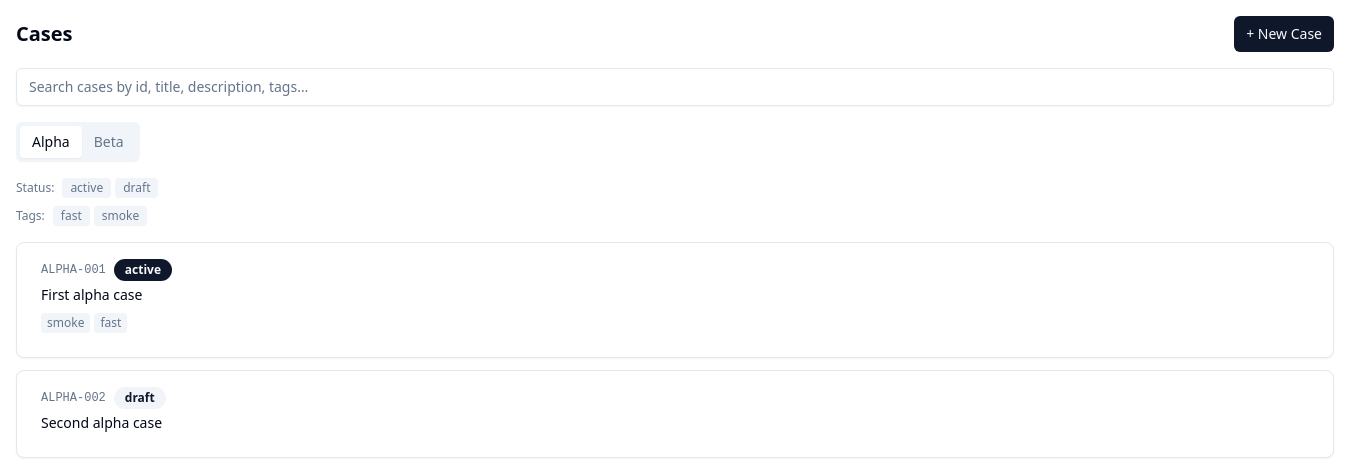
Test: CasesPage › tag chip multi-select: toggling off re-shows the hidden case
Expected: the element with test id "case-card-ALPHA-001" is shown, [16,242,1334,358]
Expected: the element with test id "case-card-ALPHA-002" is shown, [16,370,1334,458]
// Select 'smoke' — ALPHA-002 hidden
Click the button with test id "cases-tag-filter-smoke" at (120, 216), box [94,206,147,226]
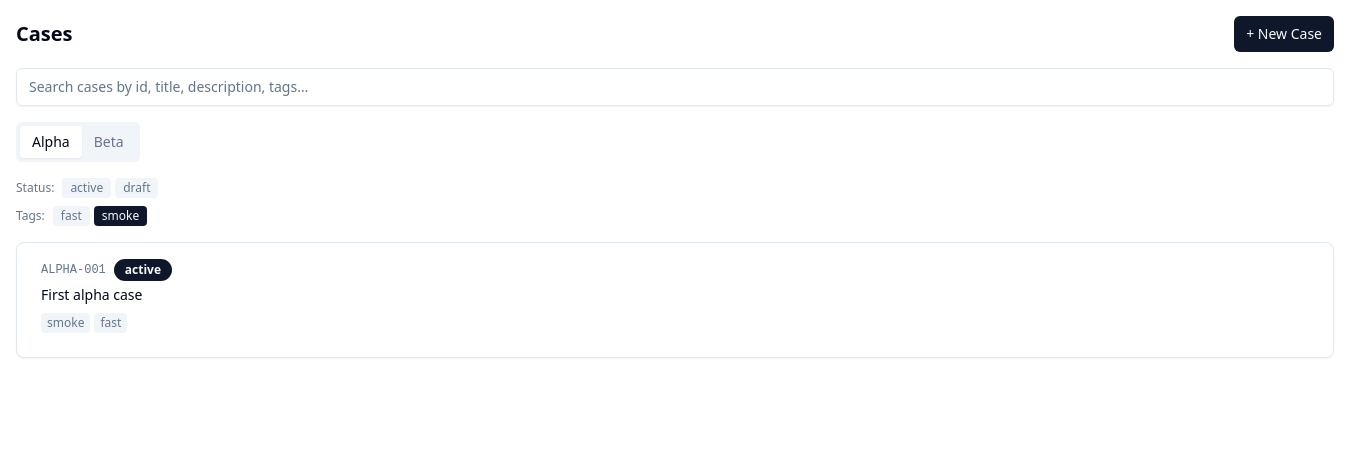
Result: the element with test id "case-card-ALPHA-002" is gone
// De-select 'smoke' — ALPHA-002 should reappear
Click the button with test id "cases-tag-filter-smoke" at (120, 216), box [94,206,147,226]
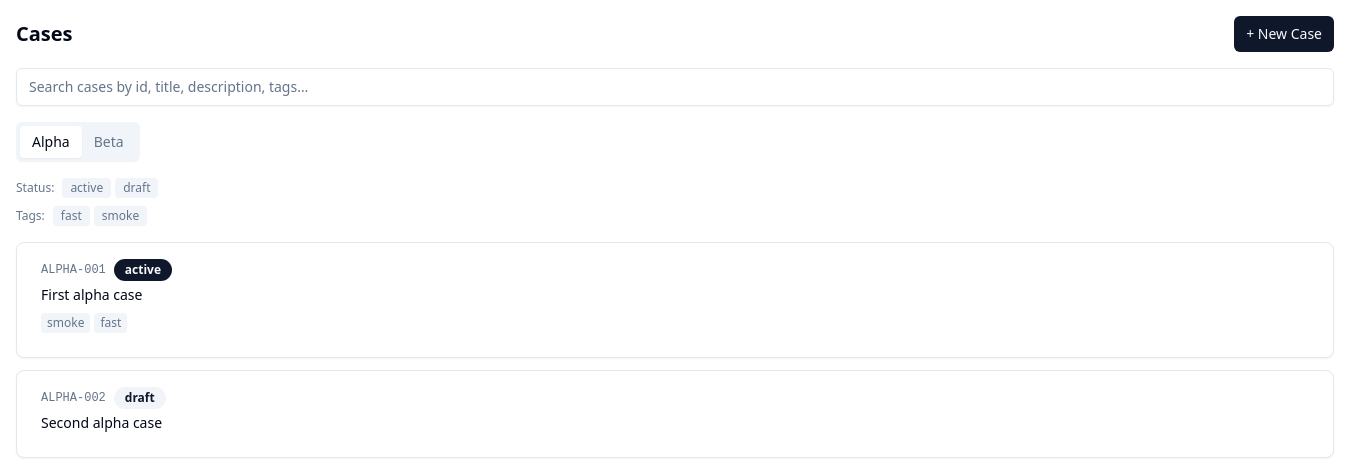
Result: the element with test id "case-card-ALPHA-002" is shown at [16,370,1334,458]
